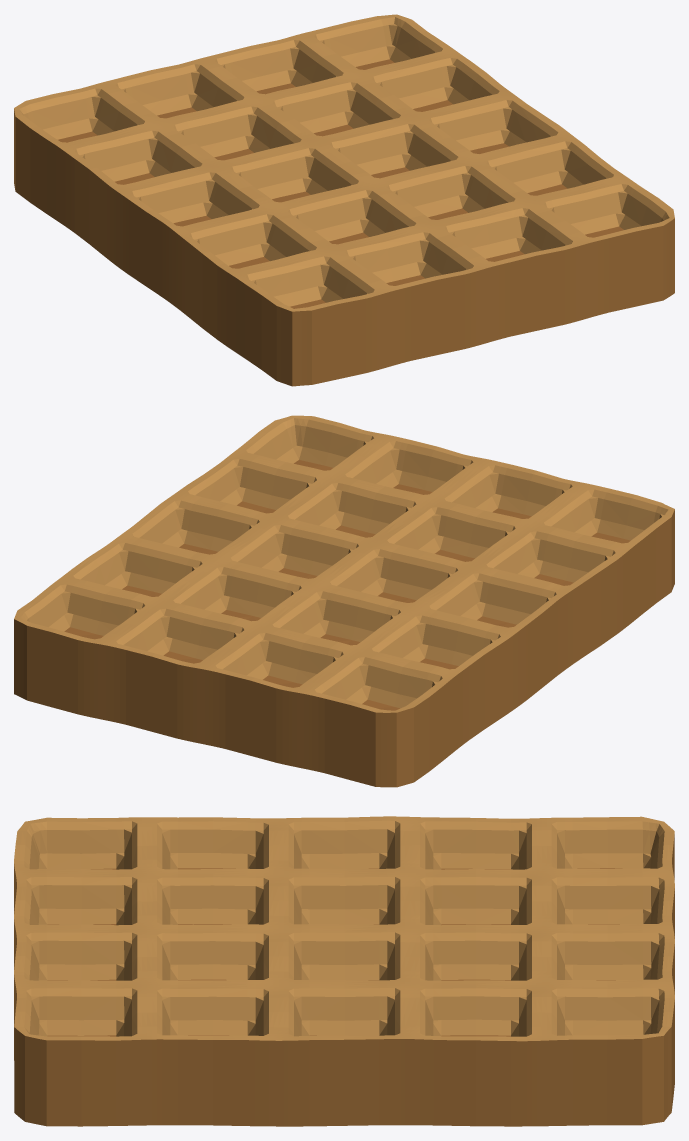
3 views of the same model, one above another, from view 1: azimuth 30°, elevation 25°; view 2: azimuth 150°, elevation 25°; view 3: azimuth 270°, elevation 25° (orthographic). The views are drawn at different scales.
Visible parts, largest first — view 1: NEW335_Waffle_LOD0; view 2: NEW335_Waffle_LOD0; view 3: NEW335_Waffle_LOD0.
Boxes of the visible parts, <box> form: NEW335_Waffle_LOD0: <box>14,14,674,386</box>; NEW335_Waffle_LOD0: <box>14,415,674,787</box>; NEW335_Waffle_LOD0: <box>14,816,674,1126</box>.
Bounding box in the file's own units: 0.1006 × 0.0181 × 0.1256.
